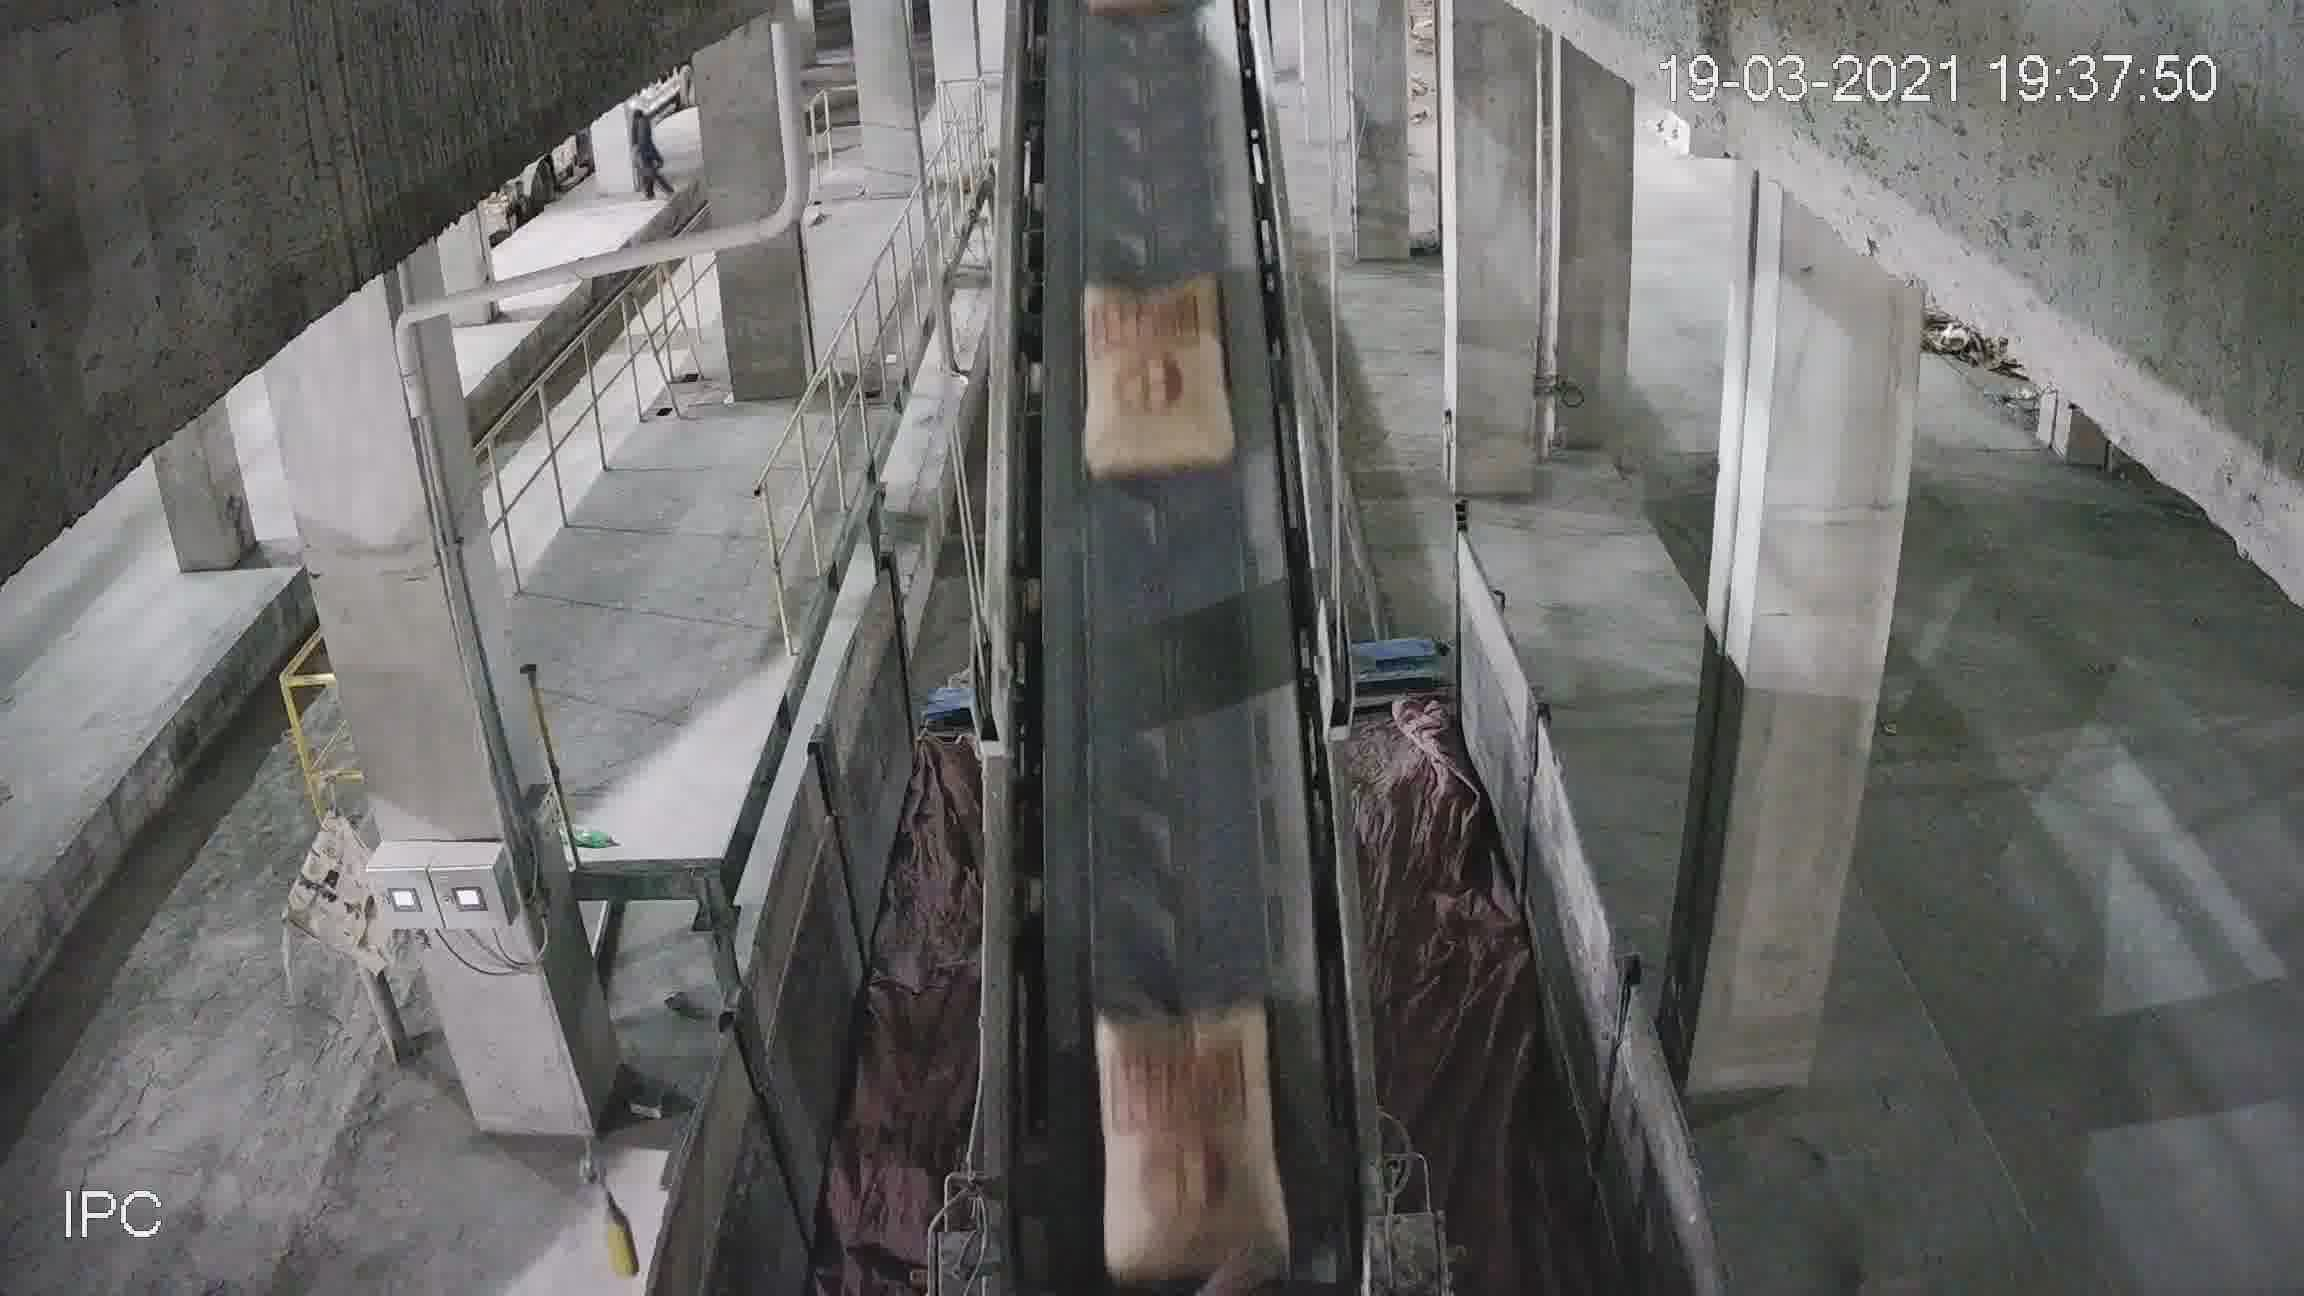bag: (1101, 994, 1274, 1192), (1078, 274, 1234, 476)
belt: (972, 62, 1356, 1157)
